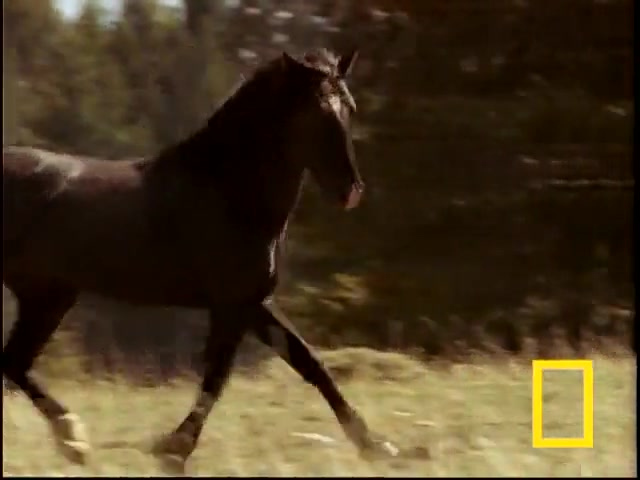horse: (1, 46, 406, 471)
